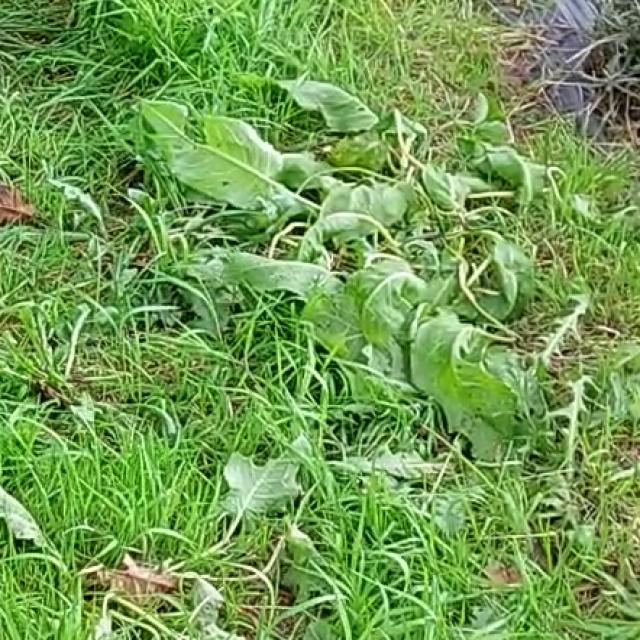organic waste: (151, 64, 595, 430)
